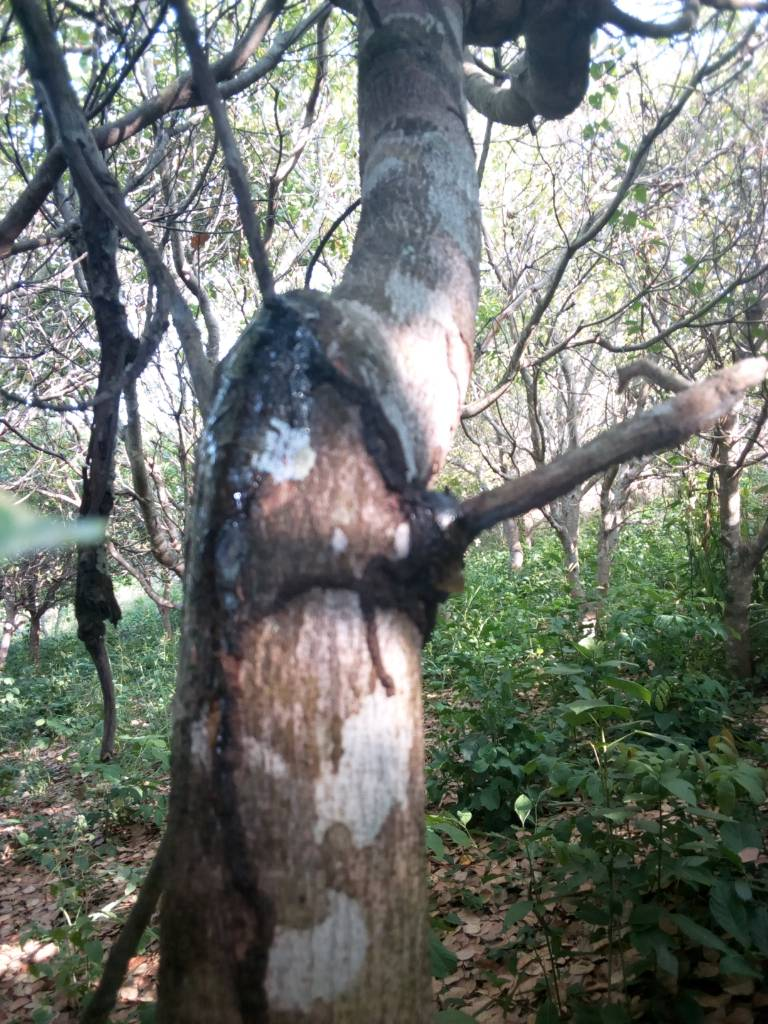Termites: (321, 347, 450, 663)
